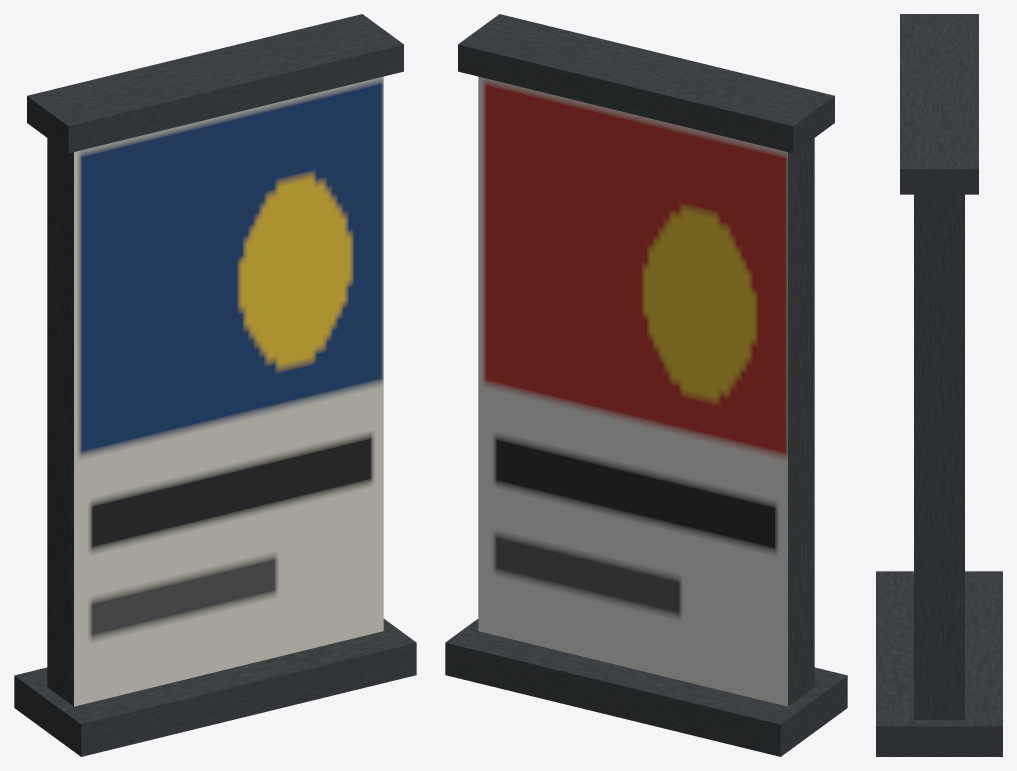
Rendered from plakatstelle_m3.glb.
3 views of the same model, side by side, from view 1: azimuth 30°, elevation 25°; view 2: azimuth 150°, elevation 25°; view 3: azimuth 270°, elevation 25° (orthographic). The views are drawn at different scales.
Visible parts, largest first — view 1: M3; view 2: M3; view 3: M3.
Part boxes in pixels (<box>): M3: <box>14,14,416,756</box>; M3: <box>445,14,847,756</box>; M3: <box>876,14,1002,756</box>.
Bounding box in the file's own units: 1.3 × 2.3 × 0.45.
1 material, 1 textured.
